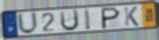2: (41, 12, 56, 33)
I: (83, 8, 92, 31)
K: (123, 6, 140, 27)
P: (101, 6, 122, 30)
U: (16, 11, 40, 36), (58, 8, 80, 32)
